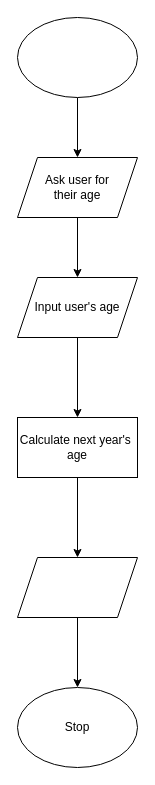
This 155x785 diagram has some shape labels left out. The centre of each missing label's shape, as x and y in pixels:
Output message and next year's age: point (77, 587)
Start: point (77, 57)
